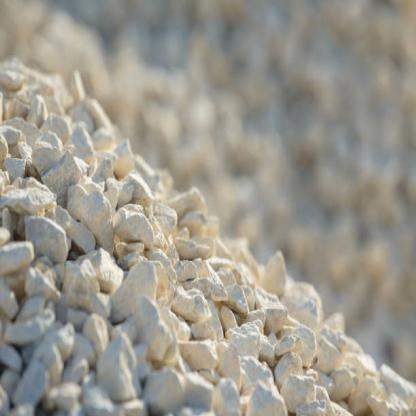Sedimentary_Limestone: (70, 177, 127, 241), (107, 258, 158, 320)
